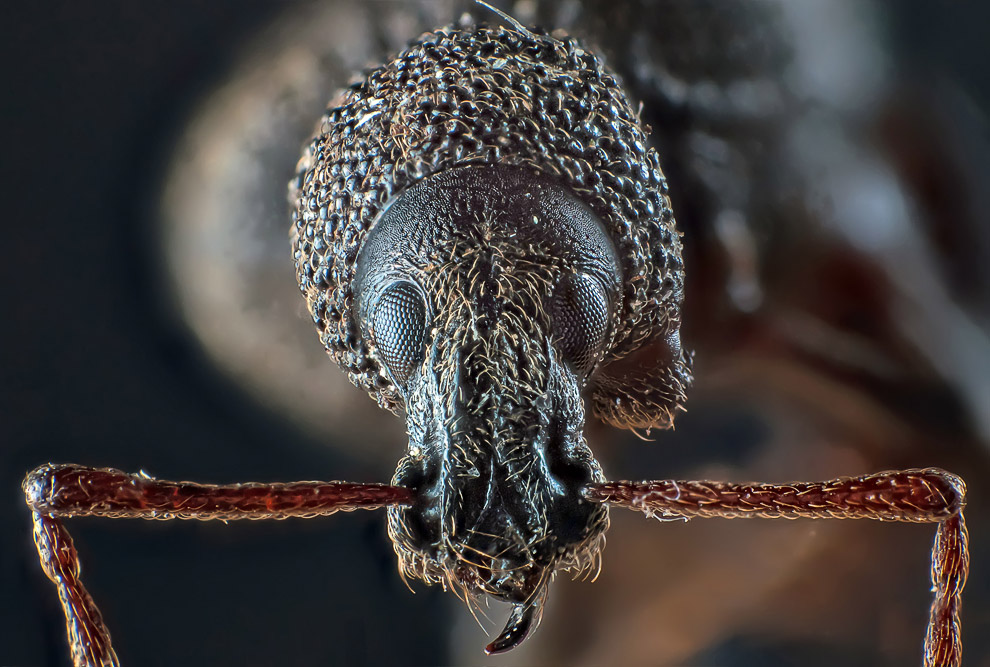dolgonosik: (13, 3, 986, 667)
